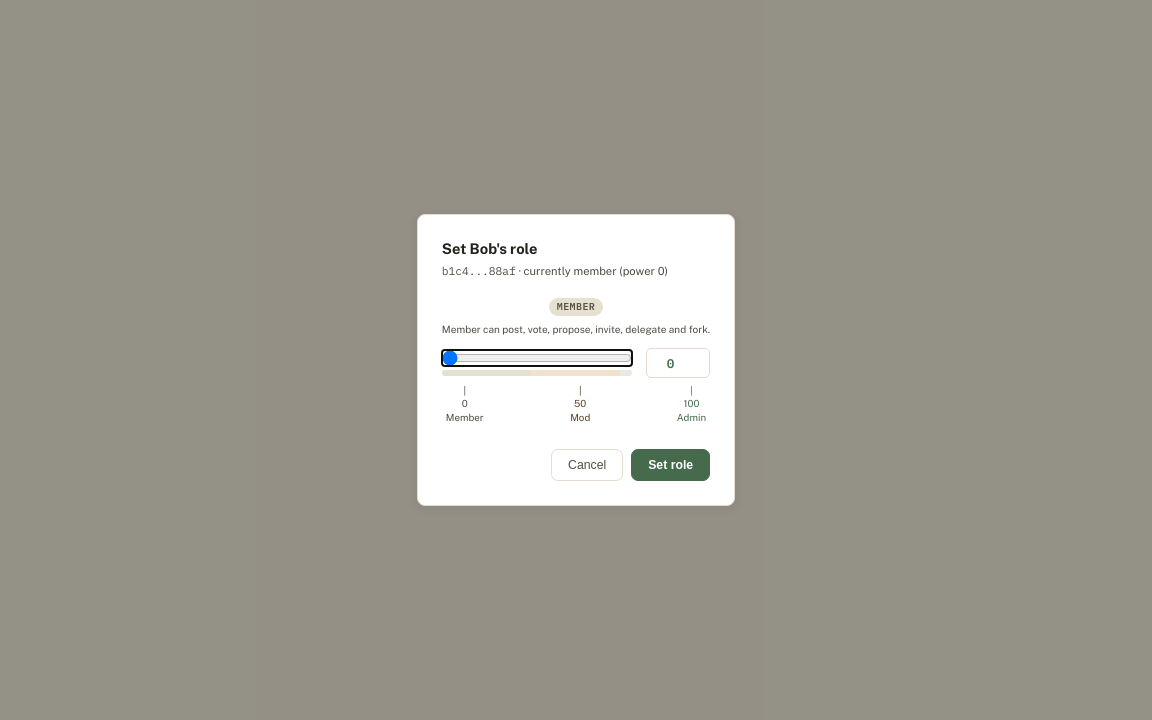
it: SetPowerDialog › moving slider updates number input
Set the slider named "Power level slider" to "60" at [554, 358], box [442,350,632,366]
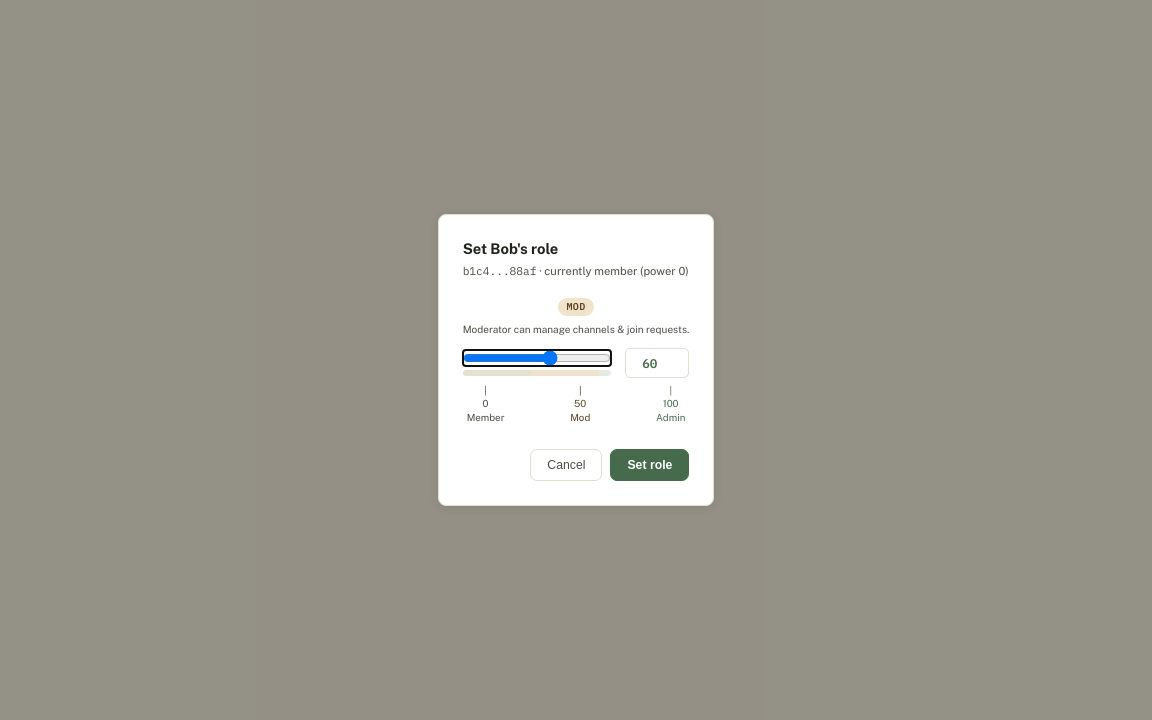
expect the number field named "Power level" holds "60": met, box [625,348,689,378]
